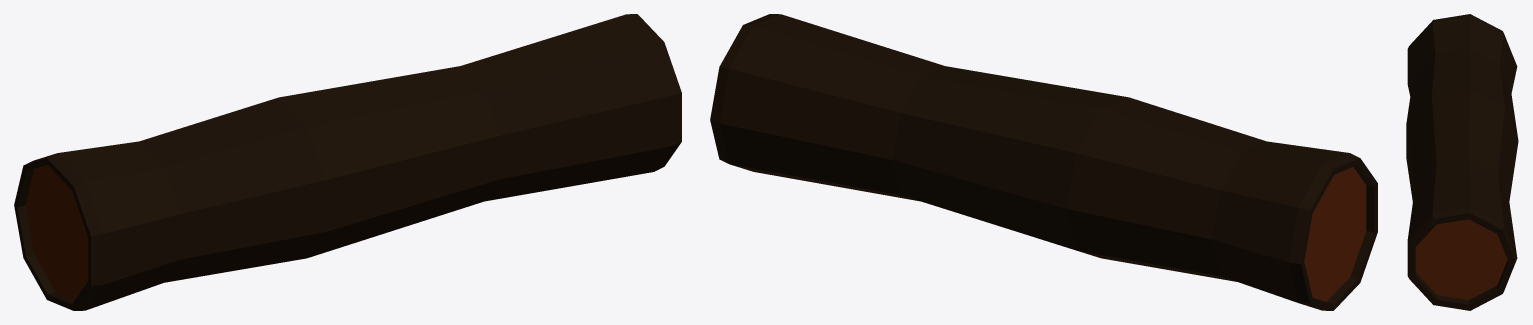
Rendered from Low Poly Log[1].obj.
The picture shows the model from 3 angles, left to right: view 1: azimuth 30°, elevation 25°; view 2: azimuth 150°, elevation 25°; view 3: azimuth 270°, elevation 25°; orthographic projection. The views are drawn at different scales.
Parts seen in each view (by area): view 1: Cylinder.001, Cylinder.002; view 2: Cylinder.001, Cylinder.002; view 3: Cylinder.001, Cylinder.002.
Boxes of the visible parts, x1,y1,x2,y2 form: Cylinder.001: (14,14,681,310); Cylinder.002: (25,165,87,299); Cylinder.001: (710,14,1377,310); Cylinder.002: (1304,167,1366,301); Cylinder.001: (1406,14,1518,310); Cylinder.002: (1415,219,1507,299).
Size of the model in its own units: 8.24 by 1.99 by 1.96.
